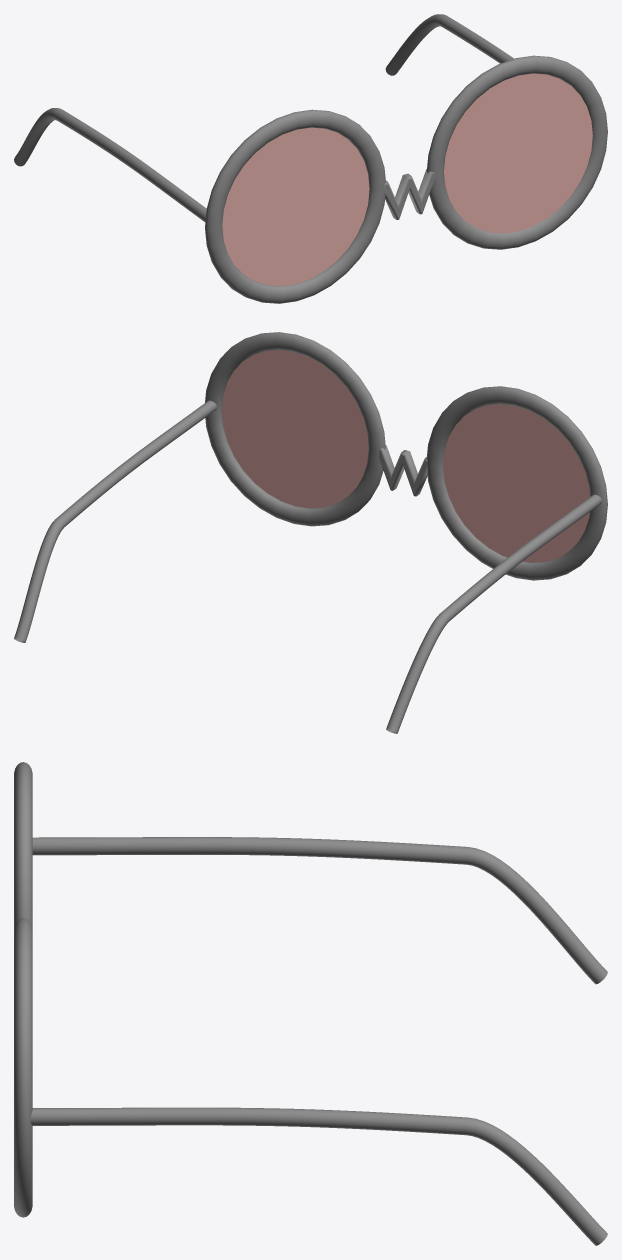
File: UWUGlasses.fbx
The picture shows the model from 3 angles, top to bottom: view 1: azimuth 30°, elevation 25°; view 2: azimuth 150°, elevation 25°; view 3: azimuth 270°, elevation 25°; orthographic projection. The views are drawn at different scales.
Parts seen in each view (by area): view 1: UWUGlasses; view 2: UWUGlasses; view 3: UWUGlasses.
Boxes of the visible parts, bbox=[...] form: UWUGlasses: bbox=[14, 14, 607, 303]; UWUGlasses: bbox=[14, 332, 607, 733]; UWUGlasses: bbox=[14, 762, 607, 1245].
Bounding box in the file's own units: 225 × 101 × 200.
